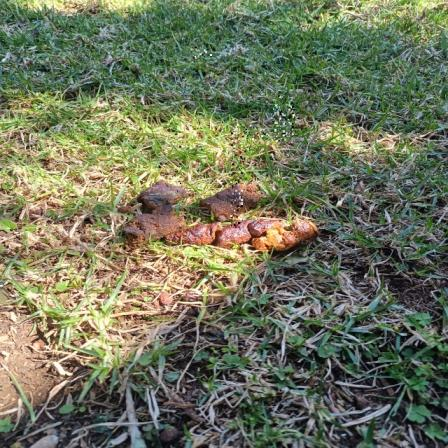dog-poop: (130, 175, 288, 246)
